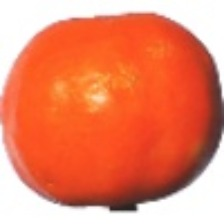tangerine: (0, 12, 188, 193)
